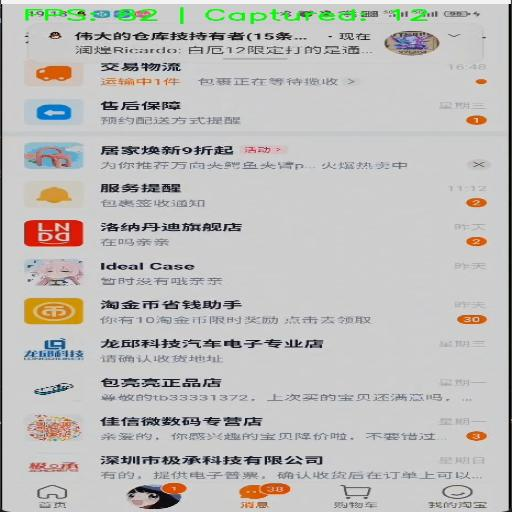butten: (10, 218, 243, 275), (383, 222, 494, 269), (421, 478, 502, 512)
